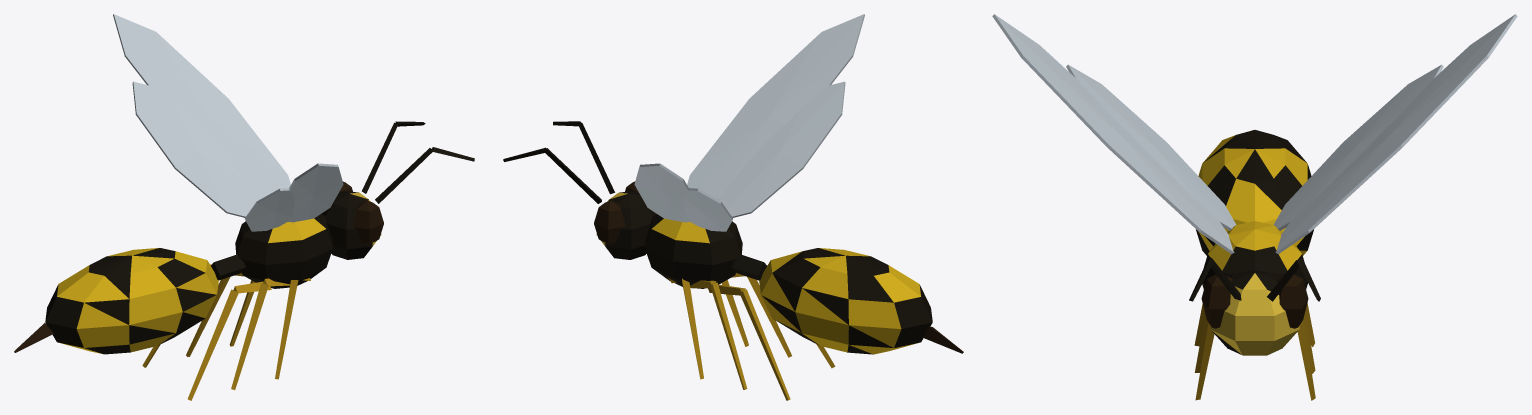
The model's file is creatures-hunting-wasp-flying.glb.
3 views of the same model, side by side, from view 1: azimuth 30°, elevation 25°; view 2: azimuth 150°, elevation 25°; view 3: azimuth 270°, elevation 25° (orthographic). The views are drawn at different scales.
Bounding box in the file's own units: 10.03 × 6.25 × 8.21.
